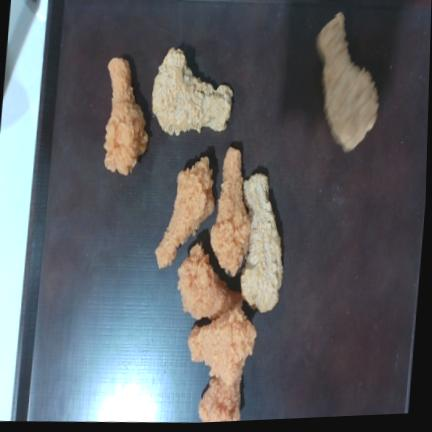chicken: (317, 12, 378, 151), (152, 47, 233, 135), (155, 157, 214, 268), (241, 173, 283, 312), (188, 306, 256, 385), (104, 58, 148, 175), (210, 147, 250, 275), (177, 244, 242, 319), (199, 370, 242, 422)
